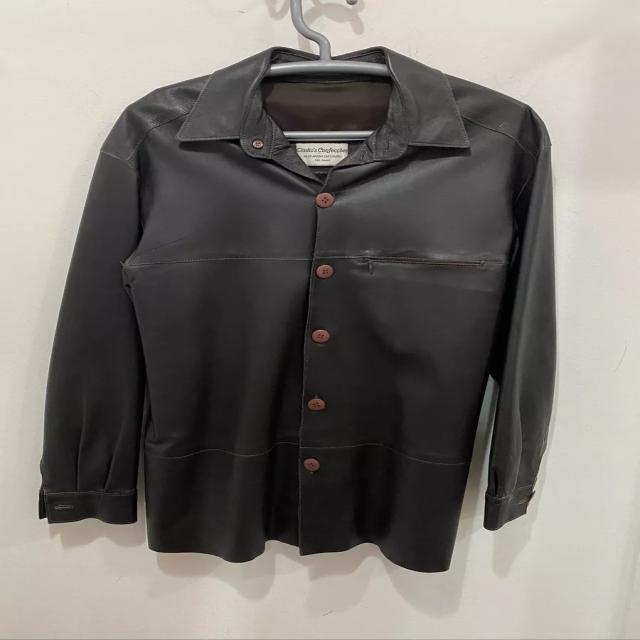long sleeve shirt: (38, 45, 559, 572)
